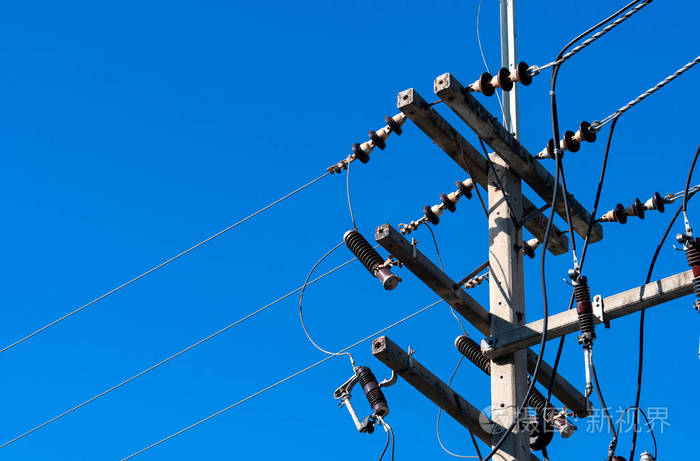insulator: (351, 115, 403, 165), (422, 179, 470, 227), (546, 119, 600, 159), (479, 60, 534, 96), (611, 191, 667, 225)
